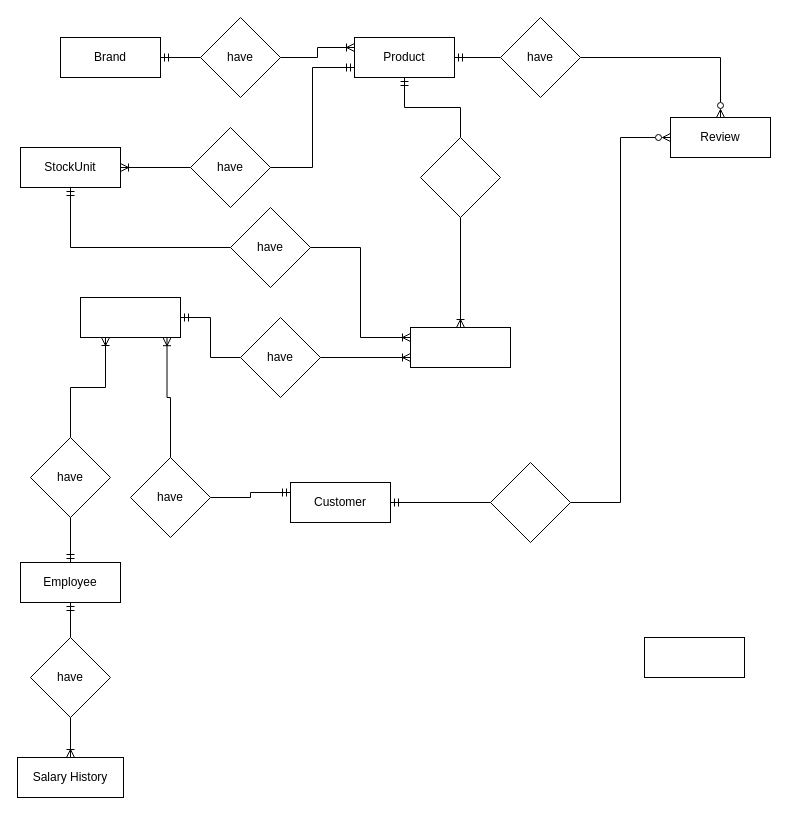
Image size: 788x815. Some labels were removed from this diagram. The box of each missing label's shape, as (x1, y1, x2, y2) in pixels:
contains: (420, 136, 500, 218)
Log Table: (644, 636, 744, 678)
makes: (490, 462, 570, 542)
Order Header: (80, 296, 180, 338)
Order Item: (410, 326, 510, 368)
